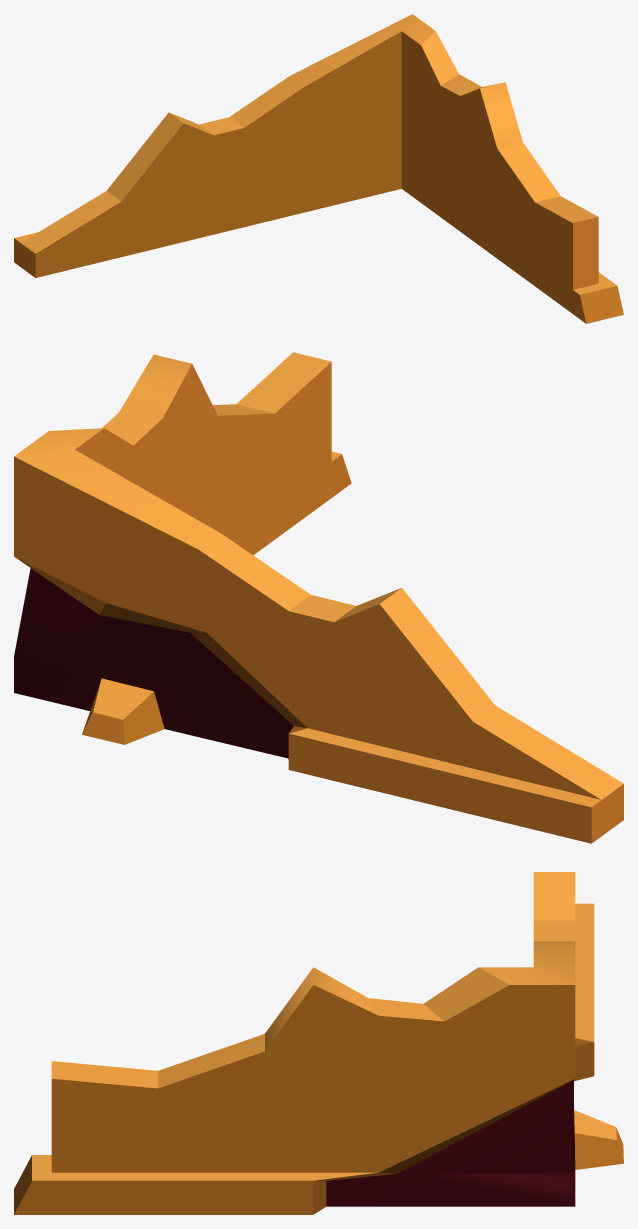
Rendered from wall_damaged_05.fbx.
3 renders of one model, top to bottom at view 1: azimuth 30°, elevation 25°; view 2: azimuth 150°, elevation 25°; view 3: azimuth 270°, elevation 25°, orthographic. The views are drawn at different scales.
Parts seen in each view (by area): view 1: wall_damaged_05; view 2: wall_damaged_05; view 3: wall_damaged_05.
Boxes of the visible parts, x1,y1,x2,y2 form: wall_damaged_05: (14,14,623,323); wall_damaged_05: (14,352,623,843); wall_damaged_05: (14,872,623,1214).
Bounding box in the file's own units: 258 × 96.17 × 240.
